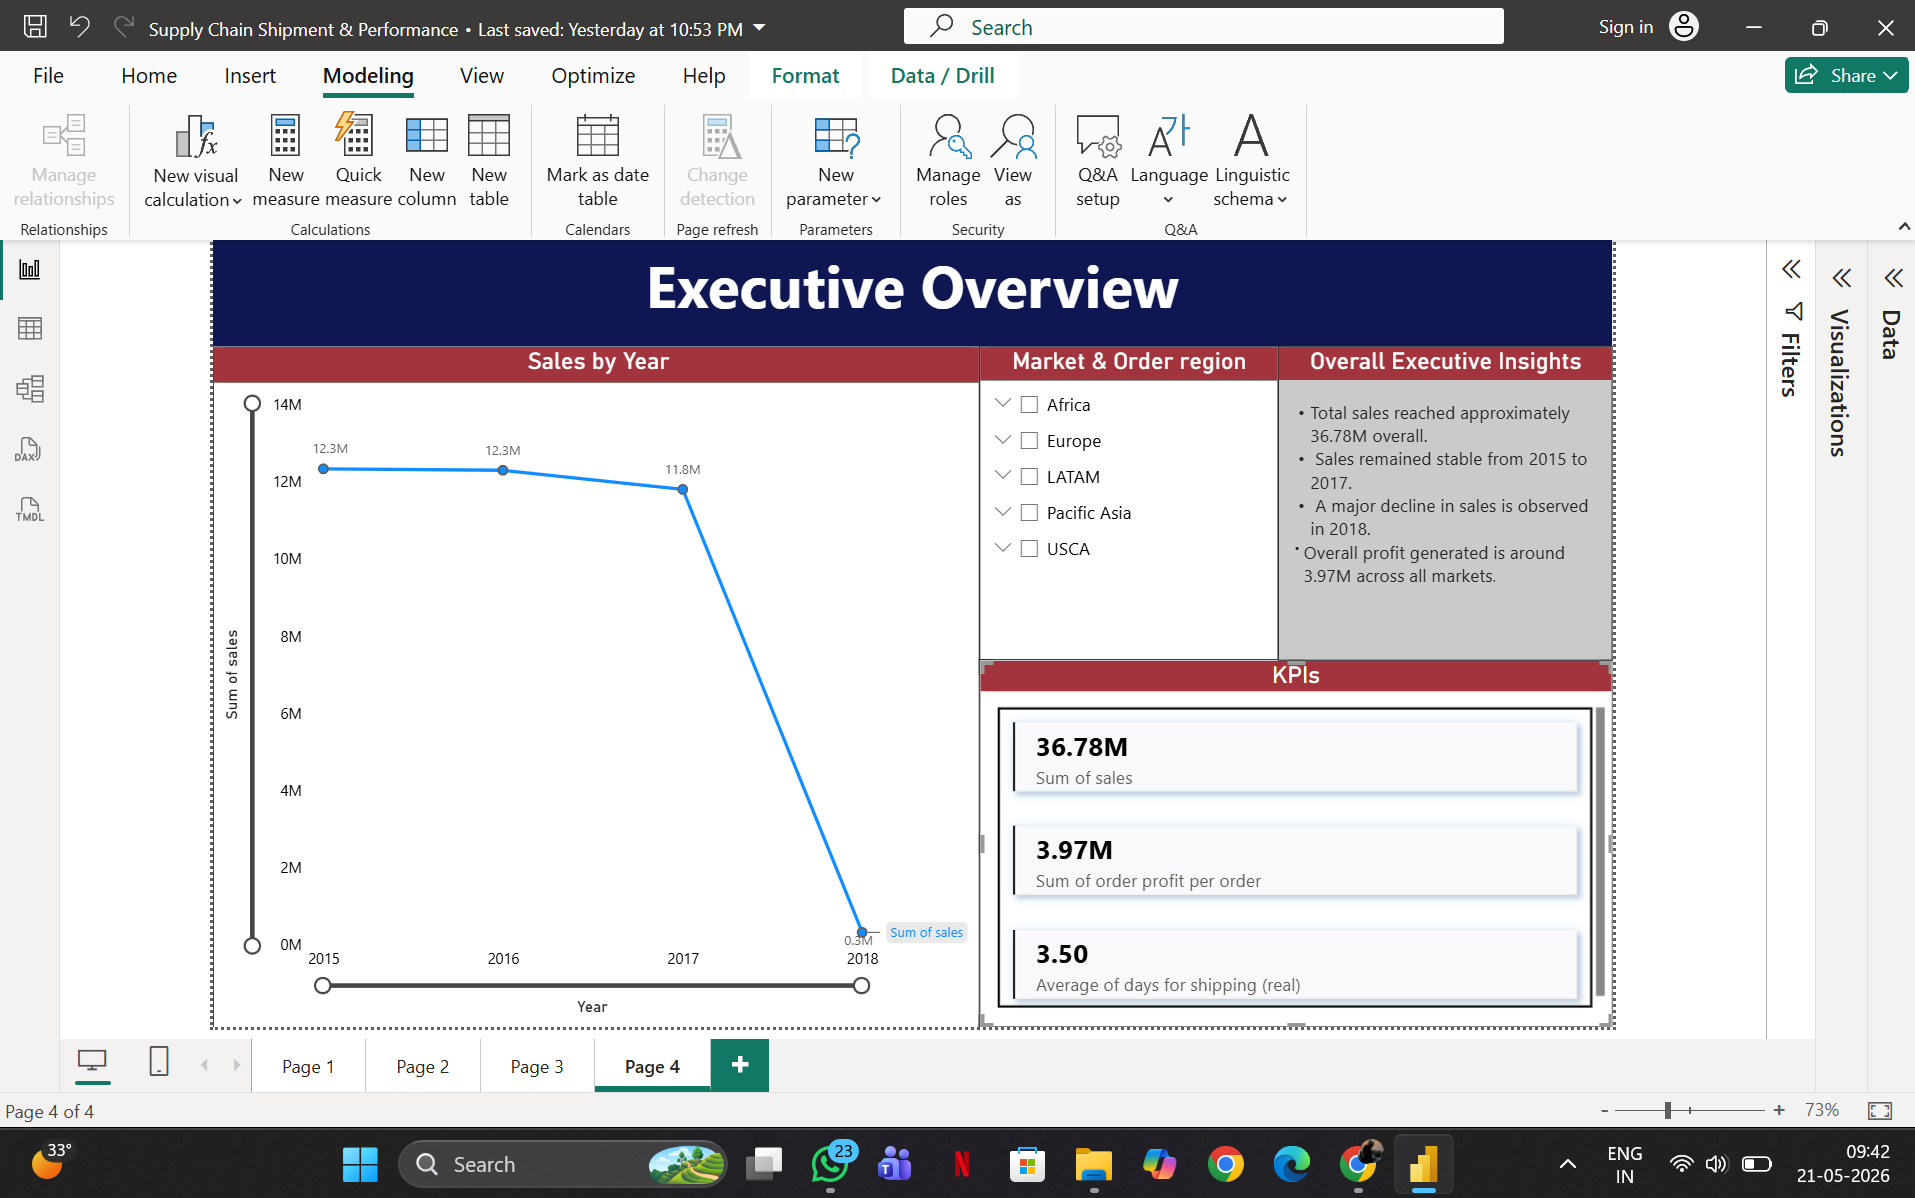

The dashboard page shown, as its layout file describes it:
{"tool":"powerbi","page":{"name":"Page 4","canvas":[1280,720],"ordinal":3},"visuals":[{"type":"cardVisual","title":"KPIs","fields":{"Data":["Sum(cleaned_supply_chain.sales)","Sum(cleaned_supply_chain.order profit per order)","Avg(cleaned_supply_chain.days for shipping (real))"]},"box":[701.3,384.3,579.1,336.2],"z":0},{"type":"slicer","title":"Market & Order region","fields":{"Values":["cleaned_supply_chain.market","cleaned_supply_chain.order region"]},"box":[701.3,97.4,273.1,286.8],"z":1000},{"type":"lineChart","title":"Sales by Year","fields":{"Category":["cleaned_supply_chain.order_date.Variation.Date Hierarchy.Year","cleaned_supply_chain.order_date.Variation.Date Hierarchy.Quarter","cleaned_supply_chain.order_date.Variation.Date Hierarchy.Month","cleaned_supply_chain.order_date.Variation.Date Hierarchy.Day"],"Y":["Sum(cleaned_supply_chain.sales)"]},"box":[0,97.4,701.3,623],"z":2000},{"type":"textbox","title":"Executive Overview","box":[0,0,1280,97.1],"z":3000},{"type":"textbox","title":"Overall Executive Insights","box":[974,97,306,287],"z":3001}]}

Visuals, with their boxes on the page's 1280x720 design canvas (x1, y1, x2, y2). These are canvas units, not pixel positions in the 1915x1198 screenshot, which may show the page scaled, cropped or inside an application window:
"KPIs" cardVisual: box=[701, 384, 1280, 720]
"Market & Order region" slicer: box=[701, 97, 974, 384]
"Sales by Year" lineChart: box=[0, 97, 701, 720]
"Executive Overview" textbox: box=[0, 0, 1280, 97]
"Overall Executive Insights" textbox: box=[974, 97, 1280, 384]
